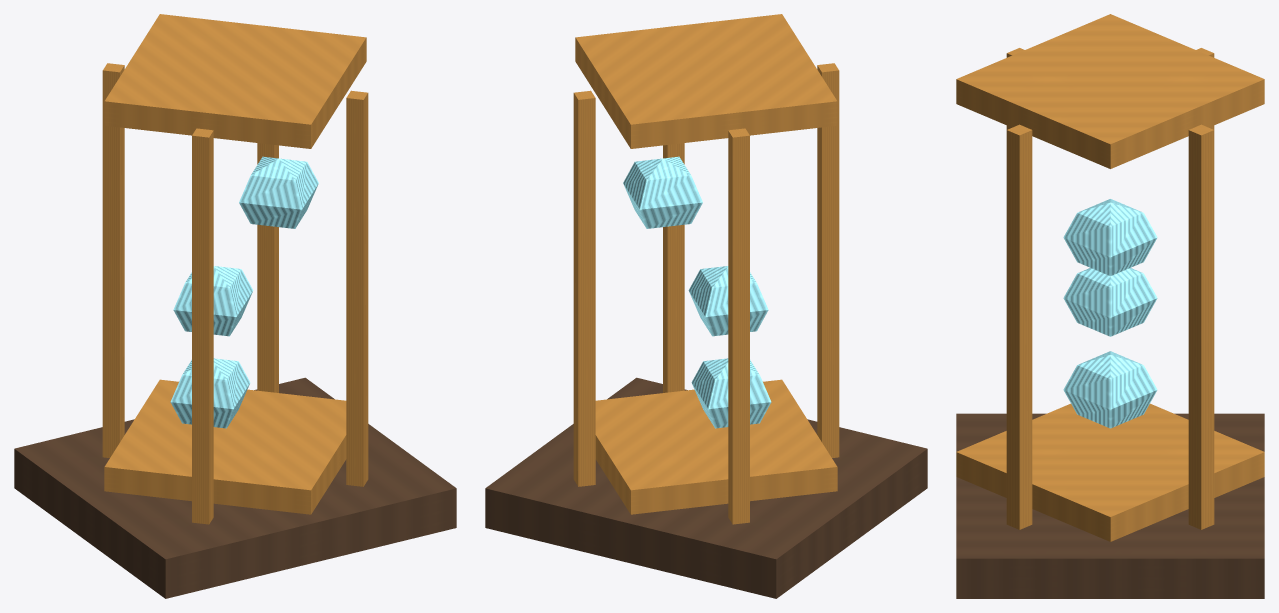
Rendered from atlas100-s014-a01.lod2.glb.
3 renders of one model, left to right at view 1: azimuth 30°, elevation 25°; view 2: azimuth 150°, elevation 25°; view 3: azimuth 270°, elevation 25°, orthographic.
Visible parts, largest first — view 1: atlas100-s014-a01:part-000, atlas100-s014-a01:part-004, atlas100-s014-a01:part-003, atlas100-s014-a01:part-005, atlas100-s014-a01:part-007, atlas100-s014-a01:part-009, atlas100-s014-a01:part-015, atlas100-s014-a01:part-011, atlas100-s014-a01:part-014, atlas100-s014-a01:part-013; view 2: atlas100-s014-a01:part-000, atlas100-s014-a01:part-004, atlas100-s014-a01:part-003, atlas100-s014-a01:part-011, atlas100-s014-a01:part-009, atlas100-s014-a01:part-007, atlas100-s014-a01:part-015, atlas100-s014-a01:part-005, atlas100-s014-a01:part-014, atlas100-s014-a01:part-013; view 3: atlas100-s014-a01:part-000, atlas100-s014-a01:part-004, atlas100-s014-a01:part-003, atlas100-s014-a01:part-005, atlas100-s014-a01:part-011, atlas100-s014-a01:part-015, atlas100-s014-a01:part-013, atlas100-s014-a01:part-014.
Boxes of the visible parts, x1,y1,x2,y2 form: atlas100-s014-a01:part-000: (14,377,456,598); atlas100-s014-a01:part-004: (104,14,366,148); atlas100-s014-a01:part-003: (104,379,346,514); atlas100-s014-a01:part-005: (346,90,368,486); atlas100-s014-a01:part-007: (192,128,213,524); atlas100-s014-a01:part-009: (102,63,124,457); atlas100-s014-a01:part-015: (239,156,318,228); atlas100-s014-a01:part-011: (257,25,278,392); atlas100-s014-a01:part-014: (173,266,253,336); atlas100-s014-a01:part-013: (170,358,250,428); atlas100-s014-a01:part-000: (485,377,927,598); atlas100-s014-a01:part-004: (575,14,837,148); atlas100-s014-a01:part-003: (595,379,837,514); atlas100-s014-a01:part-011: (573,90,595,486); atlas100-s014-a01:part-009: (728,128,749,524); atlas100-s014-a01:part-007: (817,63,839,457); atlas100-s014-a01:part-015: (623,156,702,228); atlas100-s014-a01:part-005: (663,25,684,392); atlas100-s014-a01:part-014: (688,266,768,336); atlas100-s014-a01:part-013: (691,358,771,428); atlas100-s014-a01:part-000: (956,413,1264,598); atlas100-s014-a01:part-004: (956,14,1264,168); atlas100-s014-a01:part-003: (956,403,1264,541); atlas100-s014-a01:part-005: (1006,124,1032,529); atlas100-s014-a01:part-011: (1188,124,1214,529); atlas100-s014-a01:part-015: (1063,199,1157,275); atlas100-s014-a01:part-013: (1063,351,1157,428); atlas100-s014-a01:part-014: (1063,268,1157,336).
Size of the model in its own units: 2 by 2.88 by 1.8.
Materials: 3 (3 with a texture image).
